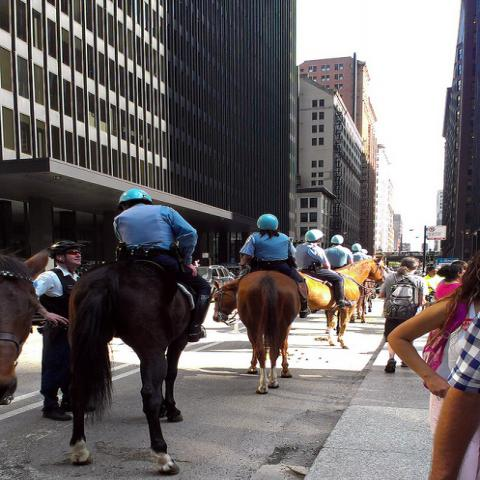car: (196, 266, 237, 295)
